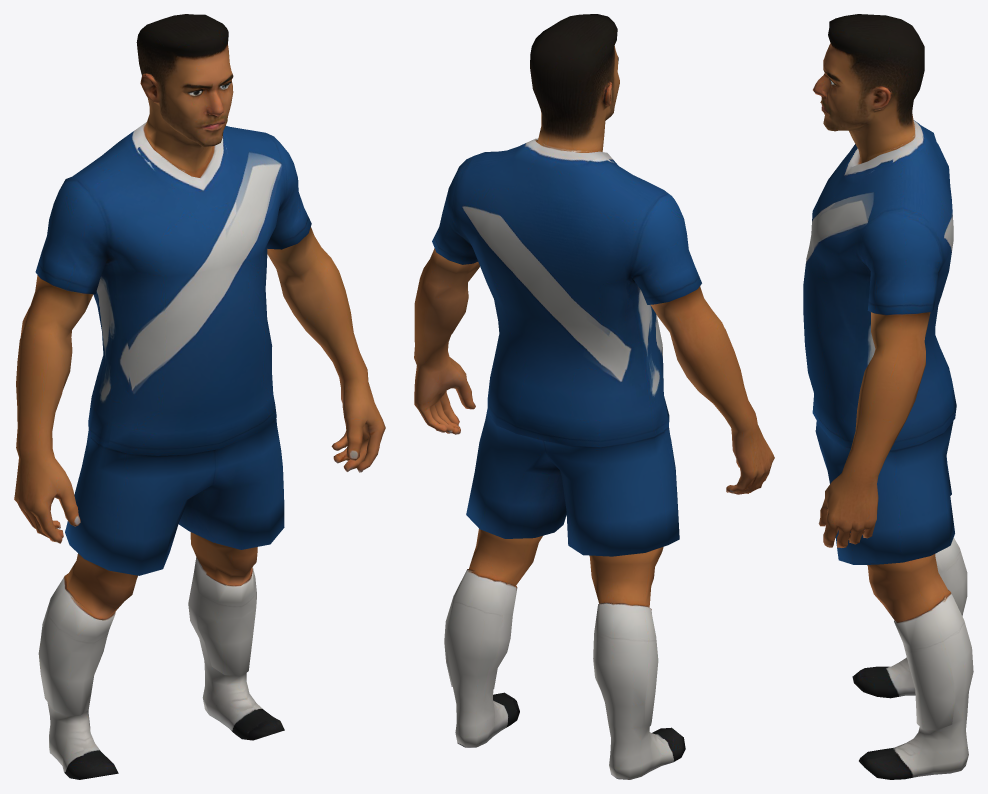
File: selected.glb
3 renders of one model, left to right at view 1: azimuth 30°, elevation 25°; view 2: azimuth 150°, elevation 25°; view 3: azimuth 270°, elevation 25°, orthographic. The views are drawn at different scales.
Visible parts, largest first — view 1: tripo_node_0c527351-a926-4129-acbb-41bb5c24b7ad; view 2: tripo_node_0c527351-a926-4129-acbb-41bb5c24b7ad; view 3: tripo_node_0c527351-a926-4129-acbb-41bb5c24b7ad.
Boxes of the visible parts, box(x1,y1,x2,y2) form: tripo_node_0c527351-a926-4129-acbb-41bb5c24b7ad: box(14, 14, 385, 779); tripo_node_0c527351-a926-4129-acbb-41bb5c24b7ad: box(414, 14, 774, 779); tripo_node_0c527351-a926-4129-acbb-41bb5c24b7ad: box(803, 14, 973, 779).
Bounding box in the file's own units: 0.5098 × 0.998 × 0.2168.
Materials: 1 (1 with a texture image).
